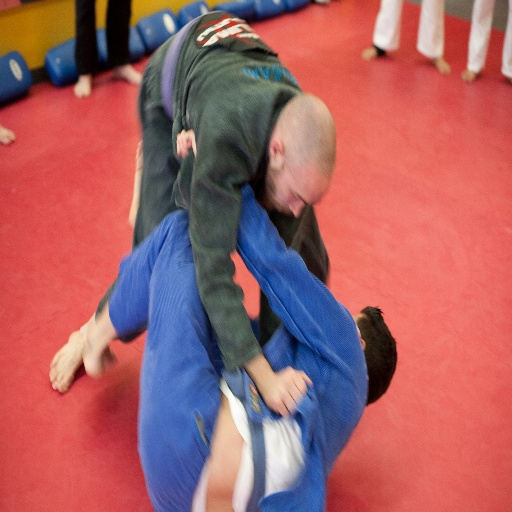hand: (256, 365, 313, 424), (174, 129, 197, 160)
